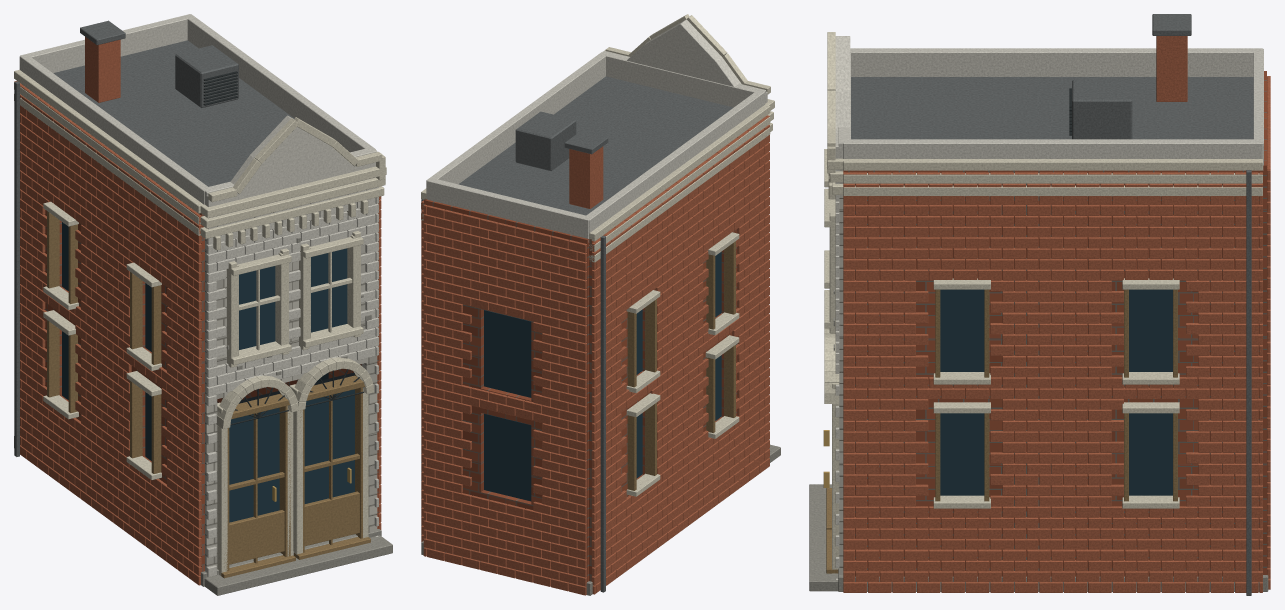
Rendered from CLSTGA11_lod0.glb.
The picture shows the model from 3 angles, left to right: view 1: azimuth 30°, elevation 25°; view 2: azimuth 150°, elevation 25°; view 3: azimuth 270°, elevation 25°; orthographic projection. The views are drawn at different scales.
Parts seen in each view (by area): view 1: CLSTGA11_LOD0; view 2: CLSTGA11_LOD0; view 3: CLSTGA11_LOD0.
Part boxes in pixels (bbox=[...]): CLSTGA11_LOD0: bbox=[14, 14, 392, 595]; CLSTGA11_LOD0: bbox=[421, 14, 780, 595]; CLSTGA11_LOD0: bbox=[809, 14, 1270, 595].
Size of the model in its own units: 3.71 by 8.04 by 6.6.
16 materials, 13 textured.
